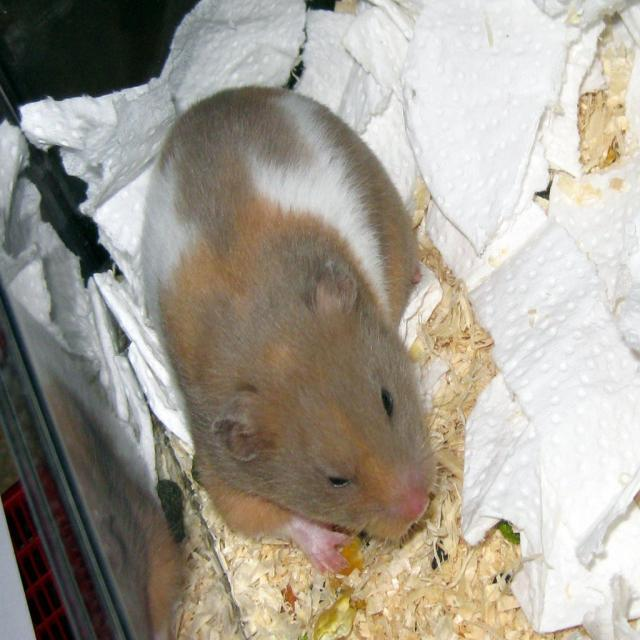rat: (136, 84, 438, 576)
